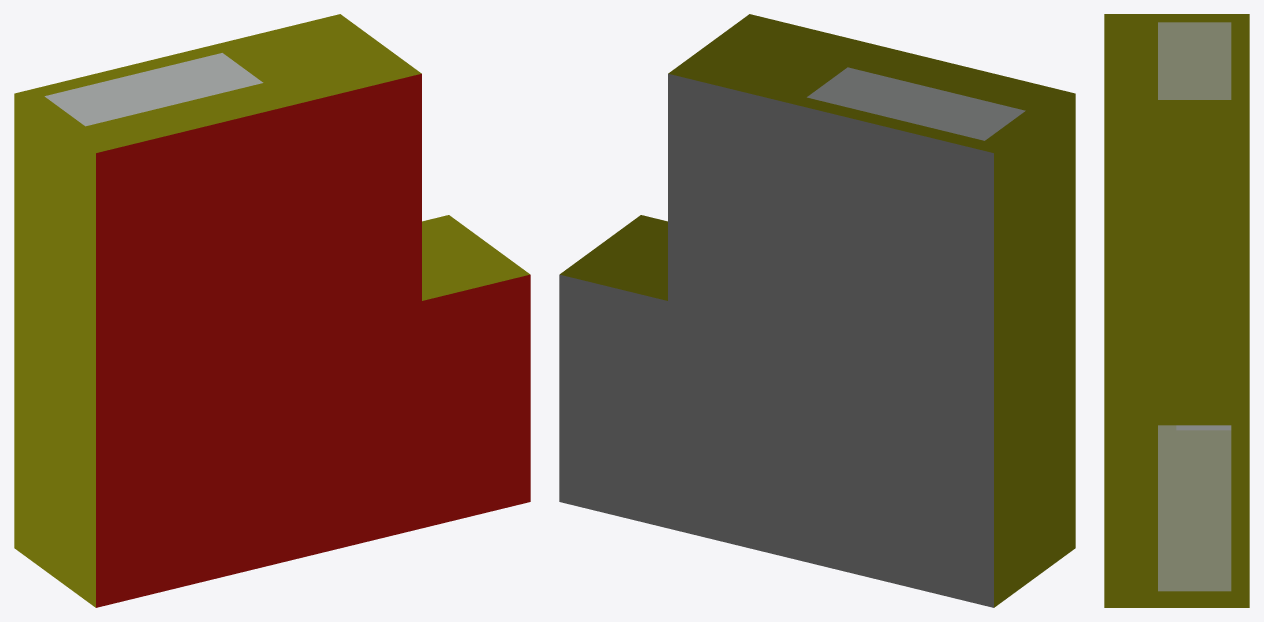
The model's file is idf.obj.
3 views of the same model, side by side, from view 1: azimuth 30°, elevation 25°; view 2: azimuth 150°, elevation 25°; view 3: azimuth 270°, elevation 25° (orthographic). The views are drawn at different scales.
Size of the model in its own units: 12.19 by 12.19 by 3.96.
